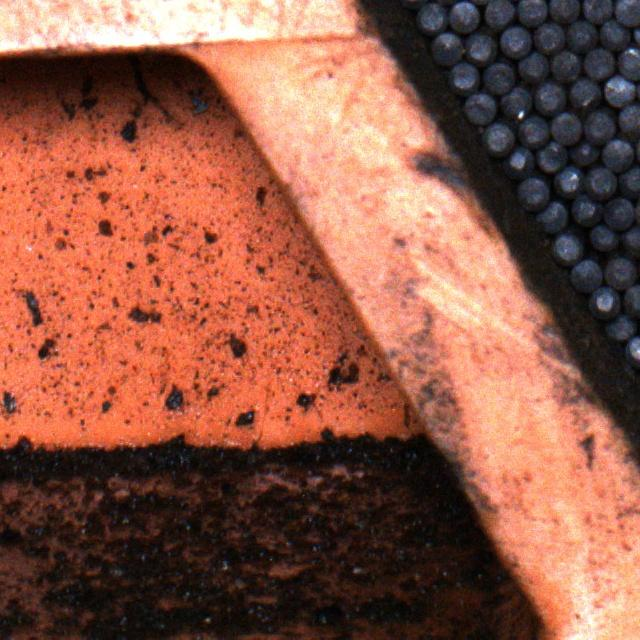tool: (604, 254, 639, 290), (480, 121, 515, 157), (427, 32, 463, 67), (580, 109, 616, 143), (514, 115, 551, 148), (446, 60, 480, 95), (515, 176, 549, 210), (500, 145, 535, 178), (460, 93, 496, 125), (580, 48, 616, 80), (531, 201, 568, 232), (464, 31, 495, 68), (549, 233, 583, 266), (586, 286, 621, 318), (569, 259, 602, 292), (565, 19, 598, 52), (582, 168, 616, 200), (603, 75, 637, 107), (481, 62, 515, 94), (498, 25, 530, 59), (570, 195, 603, 227), (568, 76, 600, 109), (534, 81, 566, 114), (602, 197, 633, 231), (532, 23, 566, 54), (550, 112, 582, 144), (414, 3, 445, 36), (603, 312, 637, 342), (600, 140, 634, 170), (566, 136, 600, 166), (535, 140, 567, 171), (599, 19, 630, 51), (447, 2, 479, 33), (551, 167, 582, 198), (500, 88, 532, 118), (548, 50, 580, 80), (516, 53, 548, 82), (588, 223, 618, 253), (485, 0, 516, 29), (514, 0, 548, 26), (546, 0, 580, 24), (618, 167, 640, 200), (616, 48, 640, 78), (614, 0, 640, 27), (617, 106, 640, 136), (582, 0, 612, 23), (621, 222, 640, 254), (623, 283, 640, 317), (624, 335, 640, 368)
